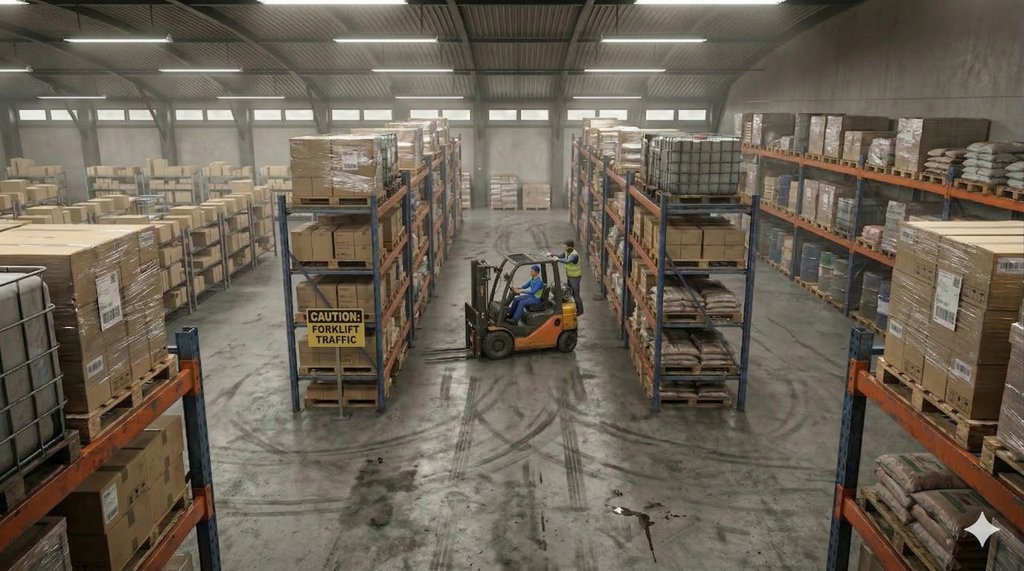forklift: (458, 228, 598, 374)
person: (552, 236, 597, 308), (506, 264, 544, 324)
safety_signage: (302, 302, 370, 371)
safety_vest: (559, 253, 585, 284), (526, 275, 542, 303)
